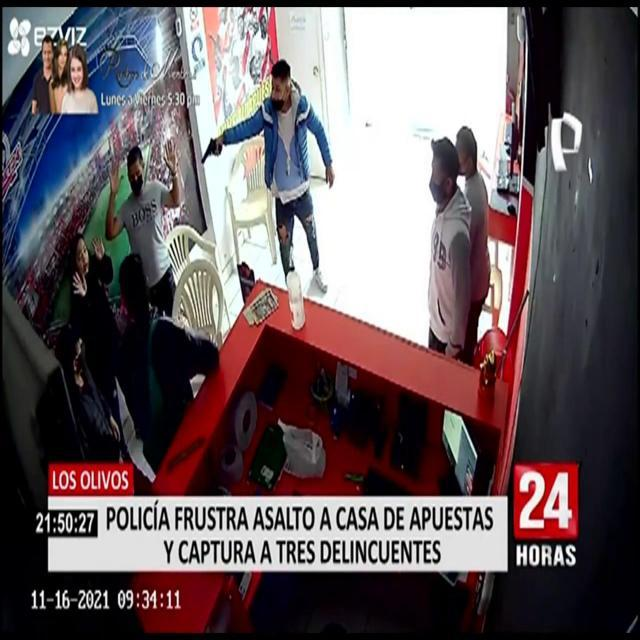weapon: (198, 124, 224, 178)
